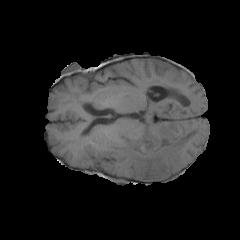glioma: (107, 124, 198, 180)
